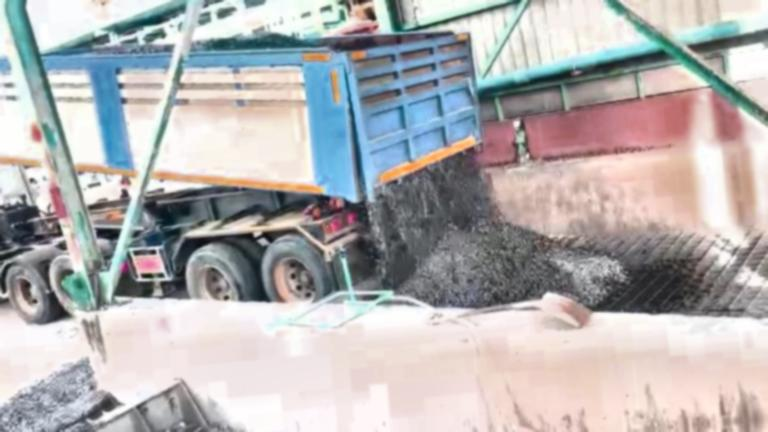gravel: (368, 153, 627, 306), (0, 358, 113, 432), (192, 32, 328, 52), (55, 44, 173, 54)
